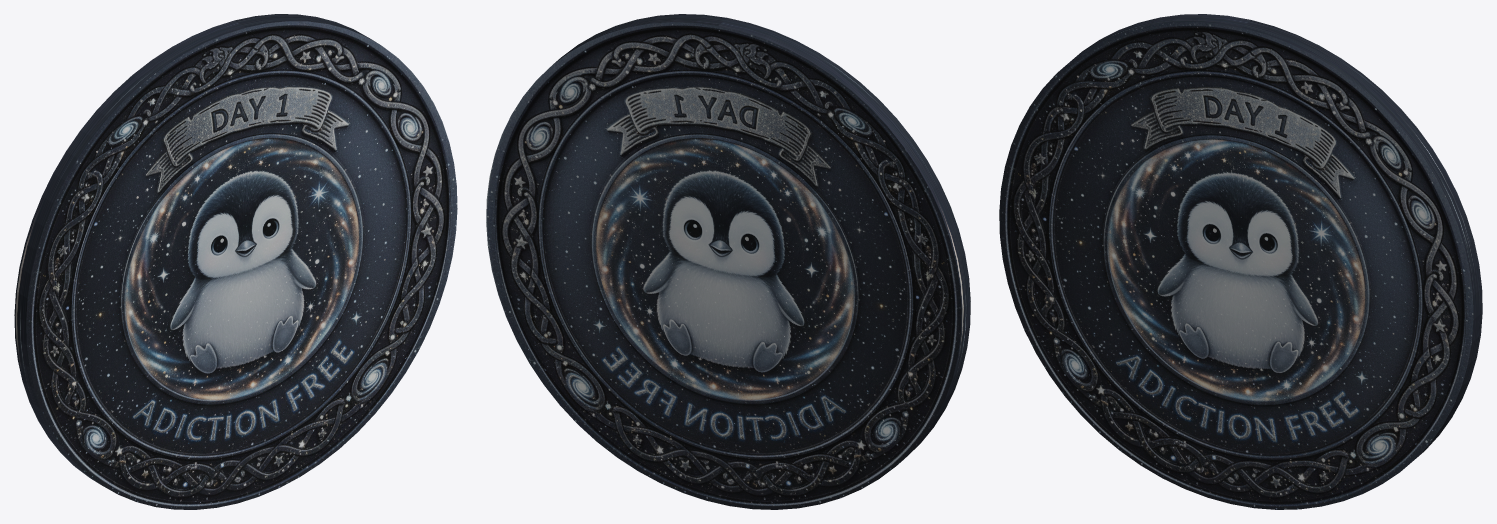
File: coin_day_1.glb
The picture shows the model from 3 angles, left to right: view 1: azimuth 30°, elevation 25°; view 2: azimuth 150°, elevation 25°; view 3: azimuth 330°, elevation 25°; orthographic projection.
Parts seen in each view (by area): view 1: Cylinder; view 2: Cylinder; view 3: Cylinder.
Boxes of the visible parts, box(x1,y1,x2,y2) form: Cylinder: box(14, 14, 457, 509); Cylinder: box(486, 14, 970, 509); Cylinder: box(999, 14, 1482, 509).
Size of the model in its own units: 2 by 2 by 0.2251.
Materials: 1 (1 with a texture image).
